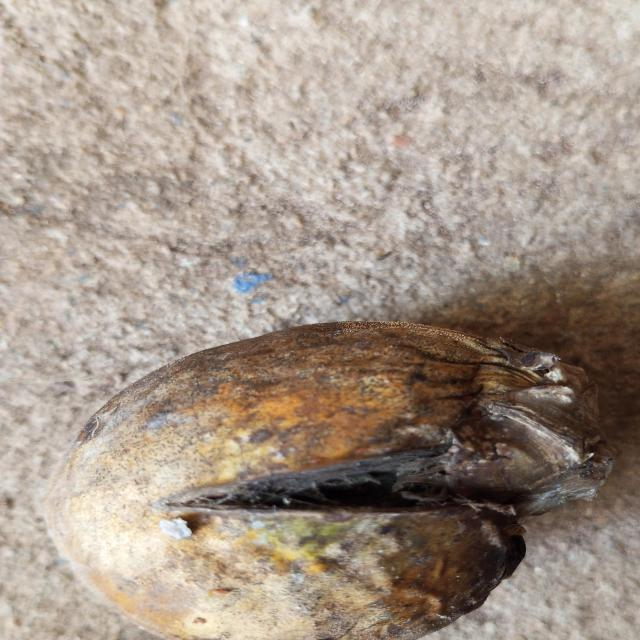damaged: (45, 321, 589, 640)
